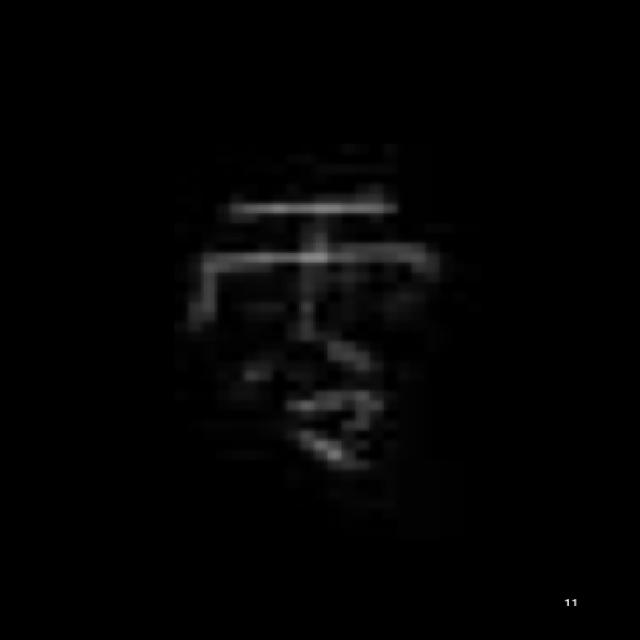0 -zero-: (180, 188, 449, 494)
